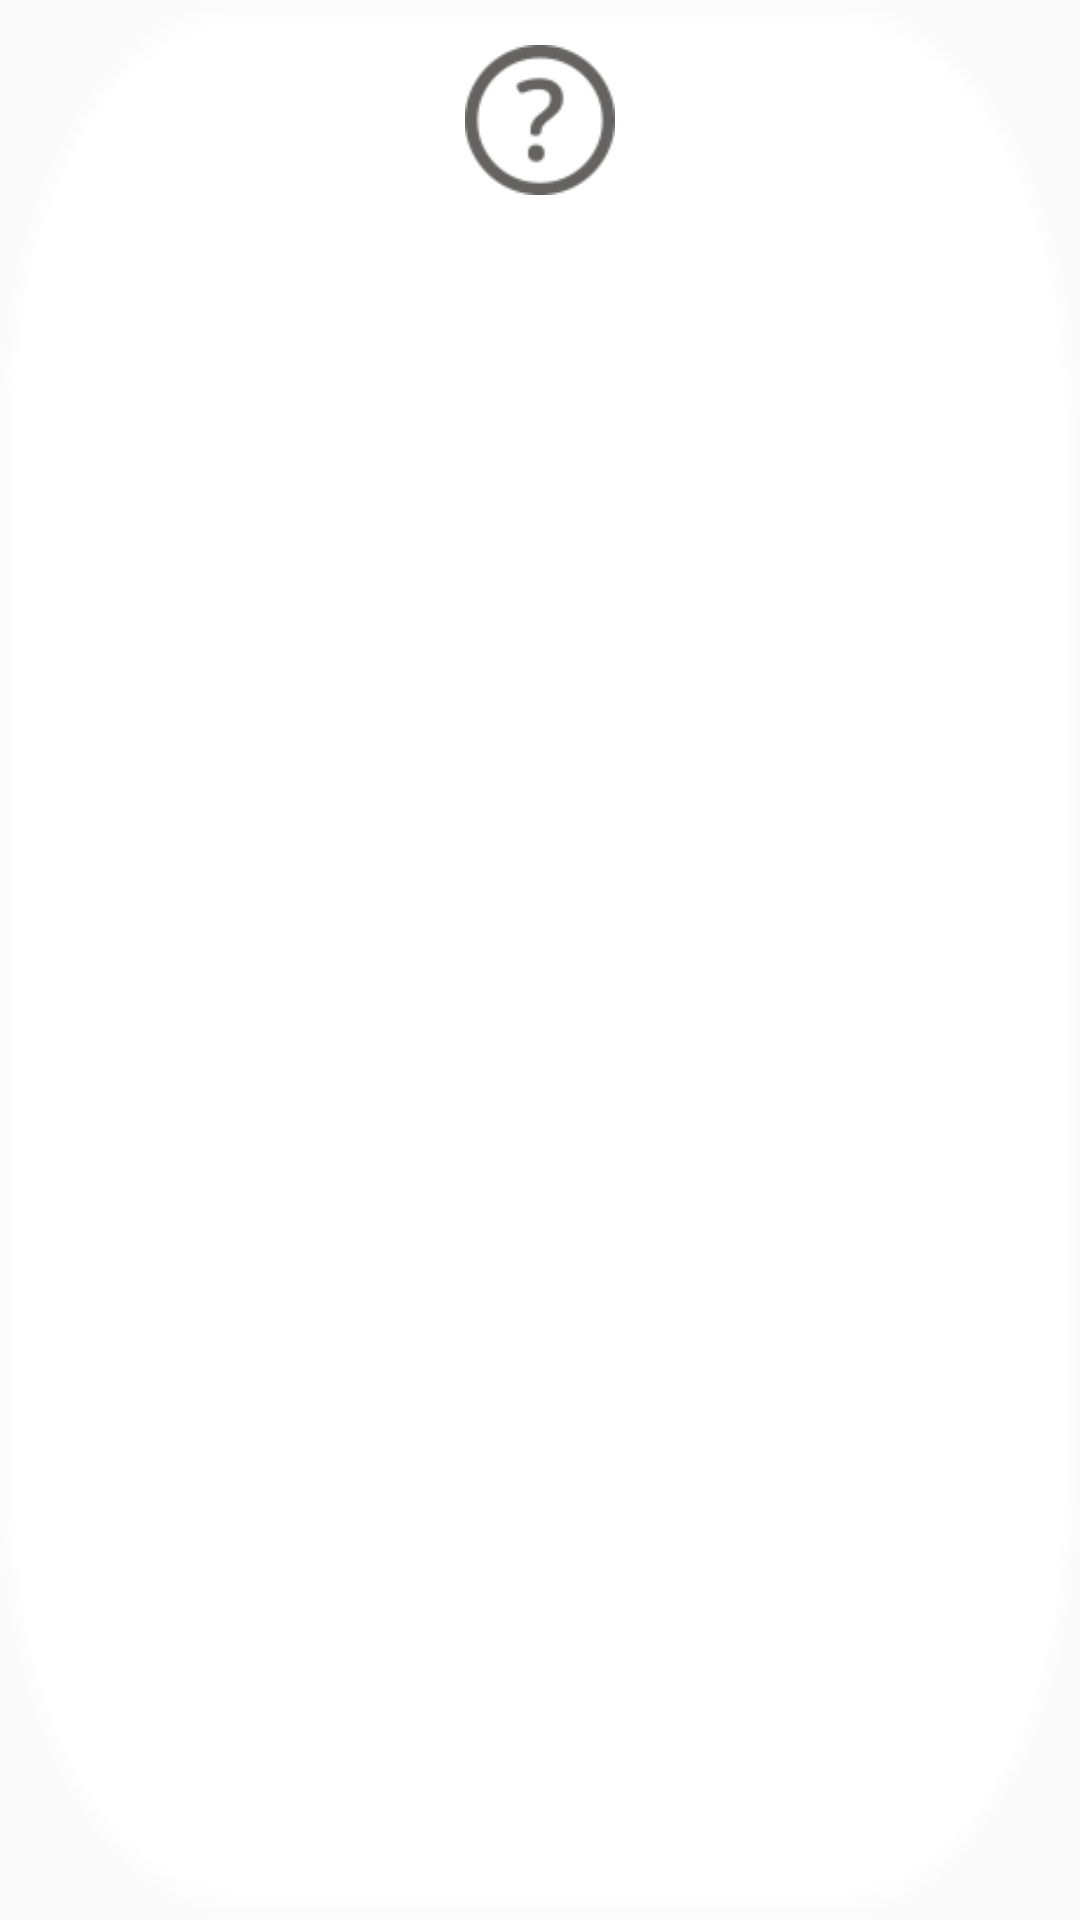

Named icons in this screenshot (1080px x 1920px) and their centers, (x,y):
specie unknown: (540,120)
